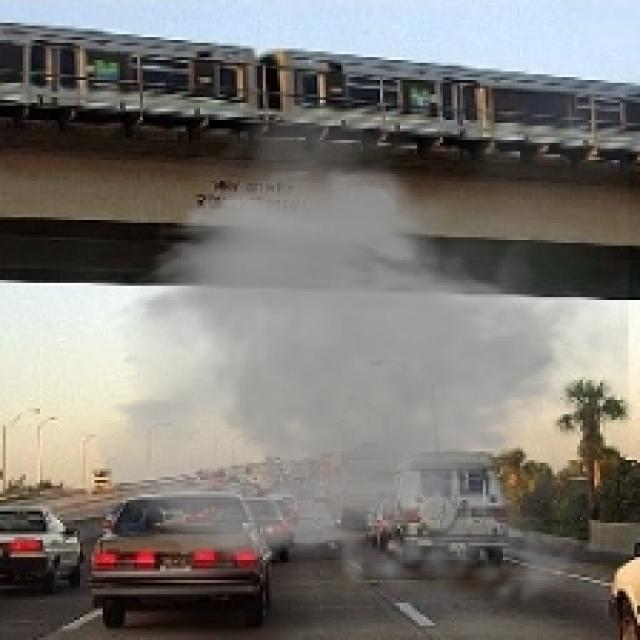smoke: (91, 94, 628, 620)
